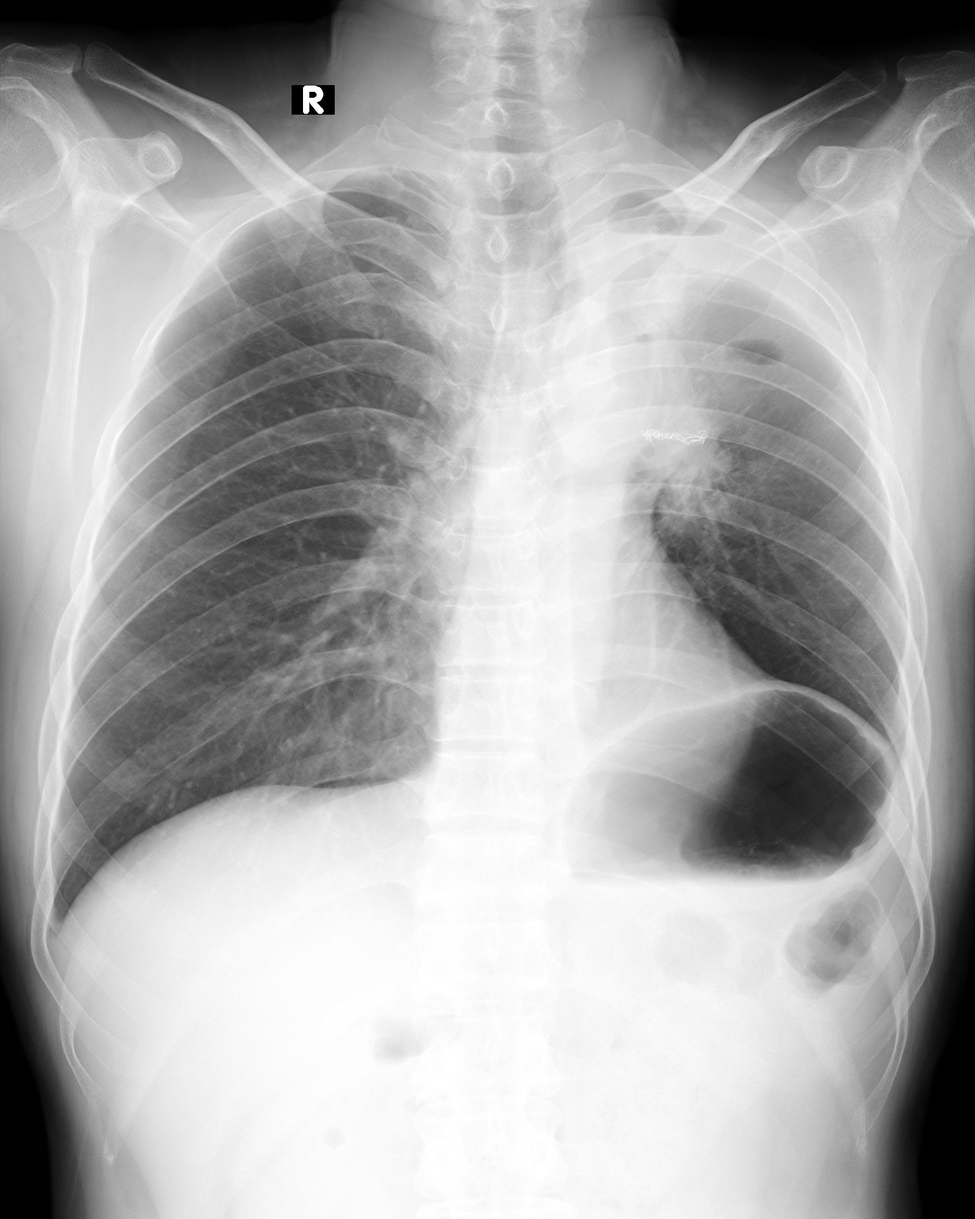Pleural thickening: (877, 673, 952, 899)
